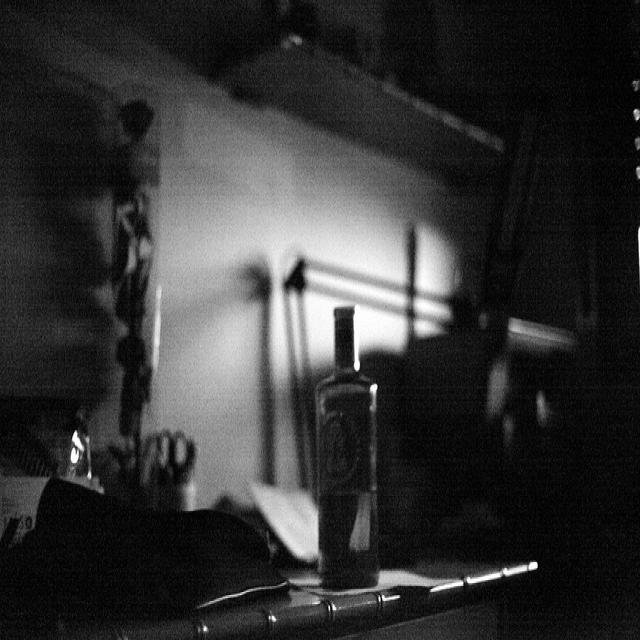Bottle: (313, 302, 396, 621)
Table: (0, 466, 557, 640)
